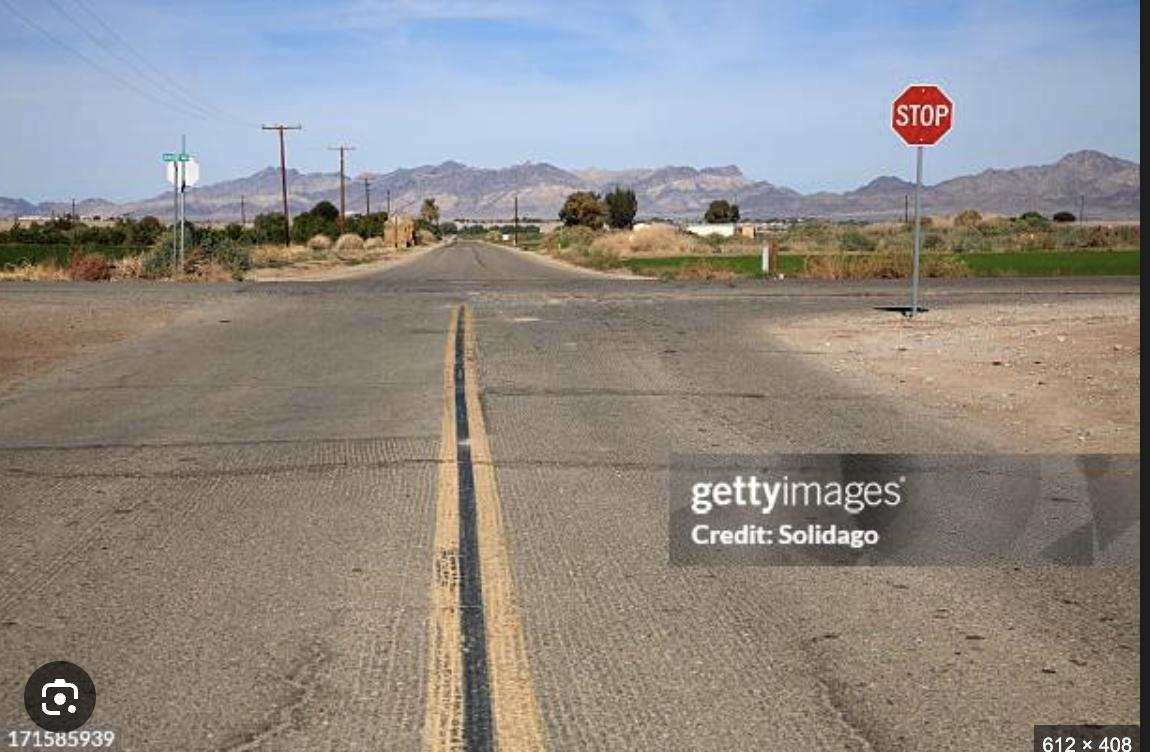Stop-Sign: (892, 83, 955, 146)
